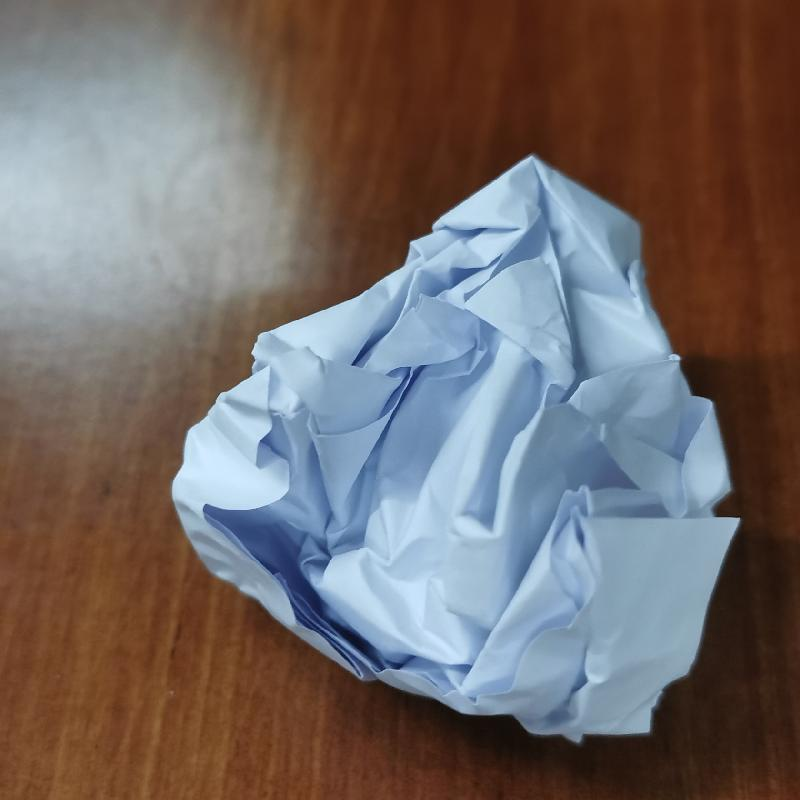spitball: (166, 147, 754, 746)
